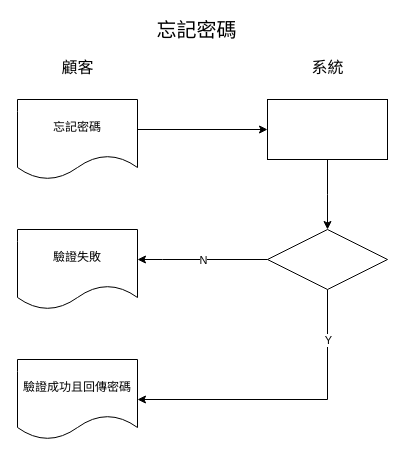
Some shapes in this 405 by 457 pixel diagram are drawn without their labels. Each missing label, with the box of its shape:
忘記密碼處理: (266, 98, 388, 160)
驗證？: (266, 228, 388, 290)
